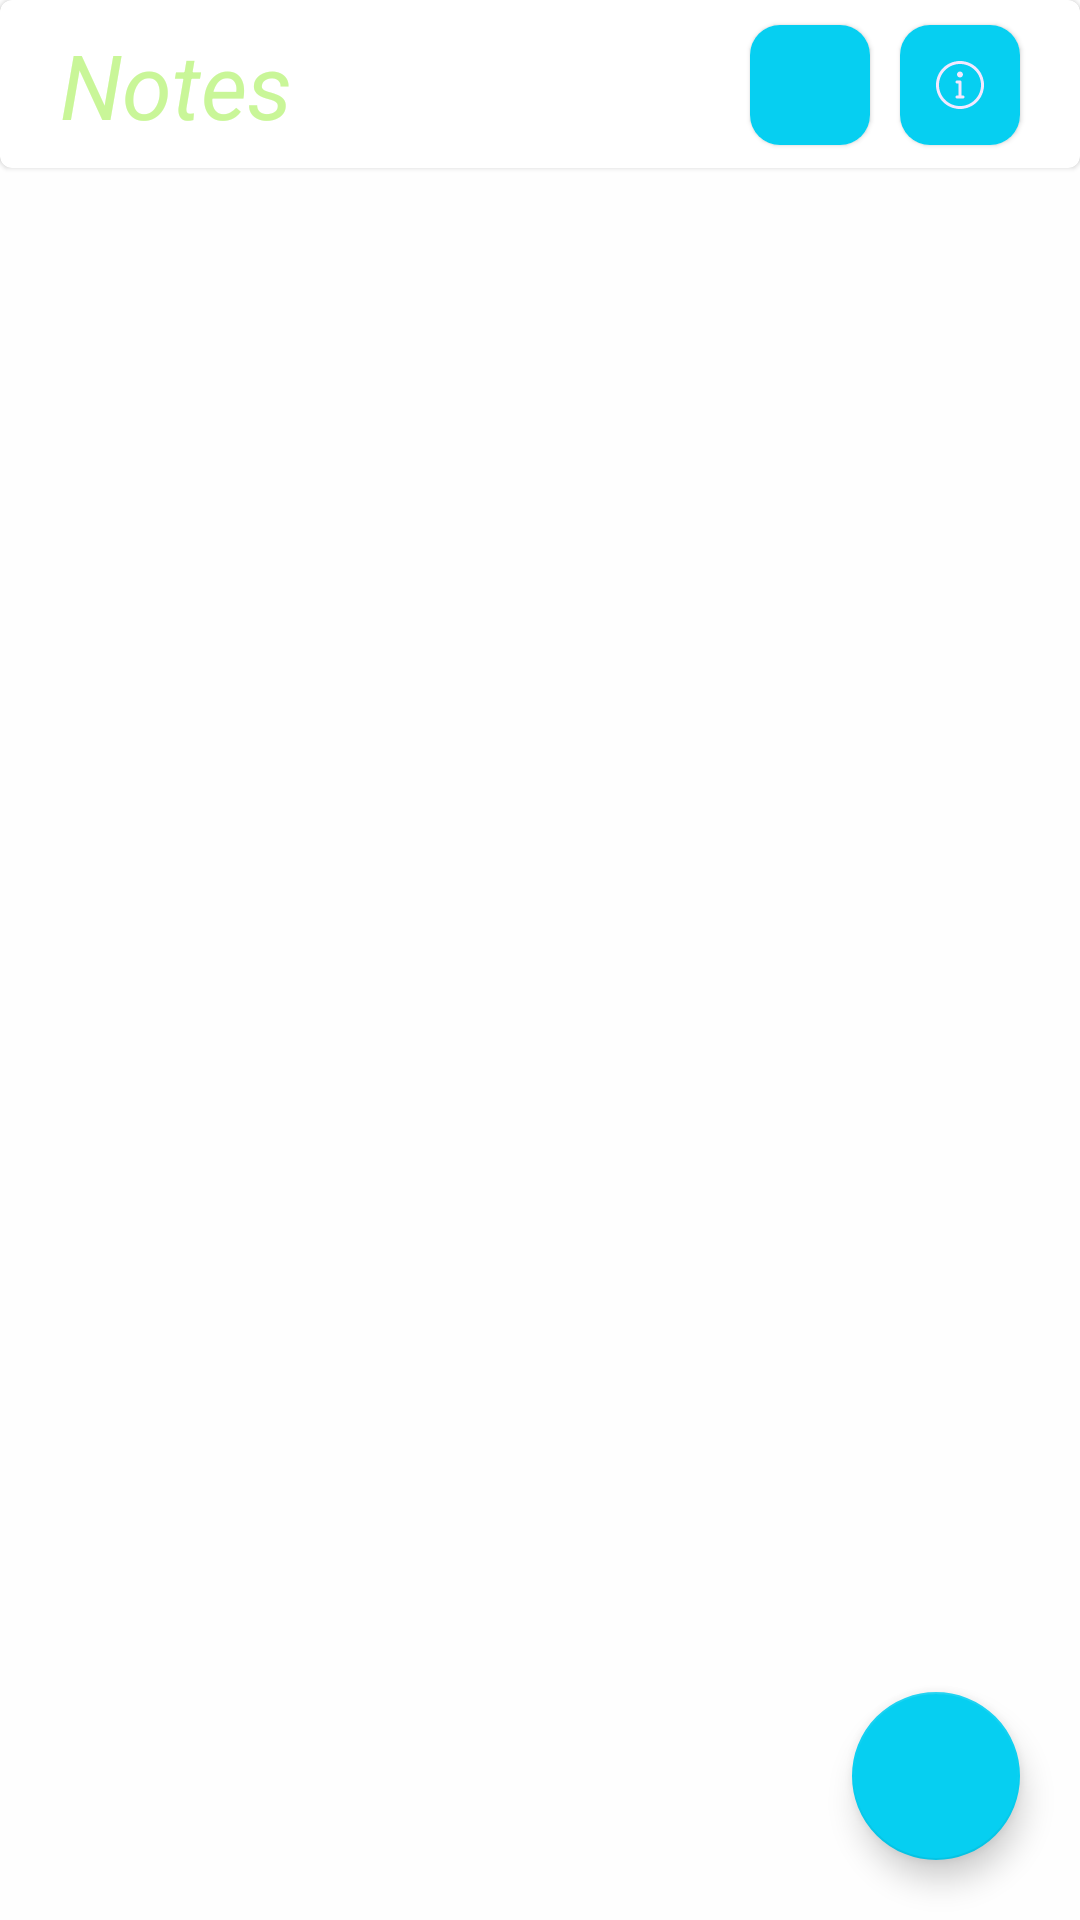

Screen size 1080px×1920px. Icon name, then its box in pixels as (x1, y1, x2, y2):
info: (900, 25, 1020, 145)
